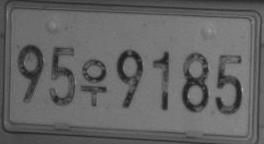1: (149, 50, 177, 110)
5: (215, 53, 242, 114), (48, 46, 75, 106)
8: (181, 51, 209, 112)
9: (16, 43, 44, 103), (116, 48, 143, 107)
우: (80, 58, 106, 106)
